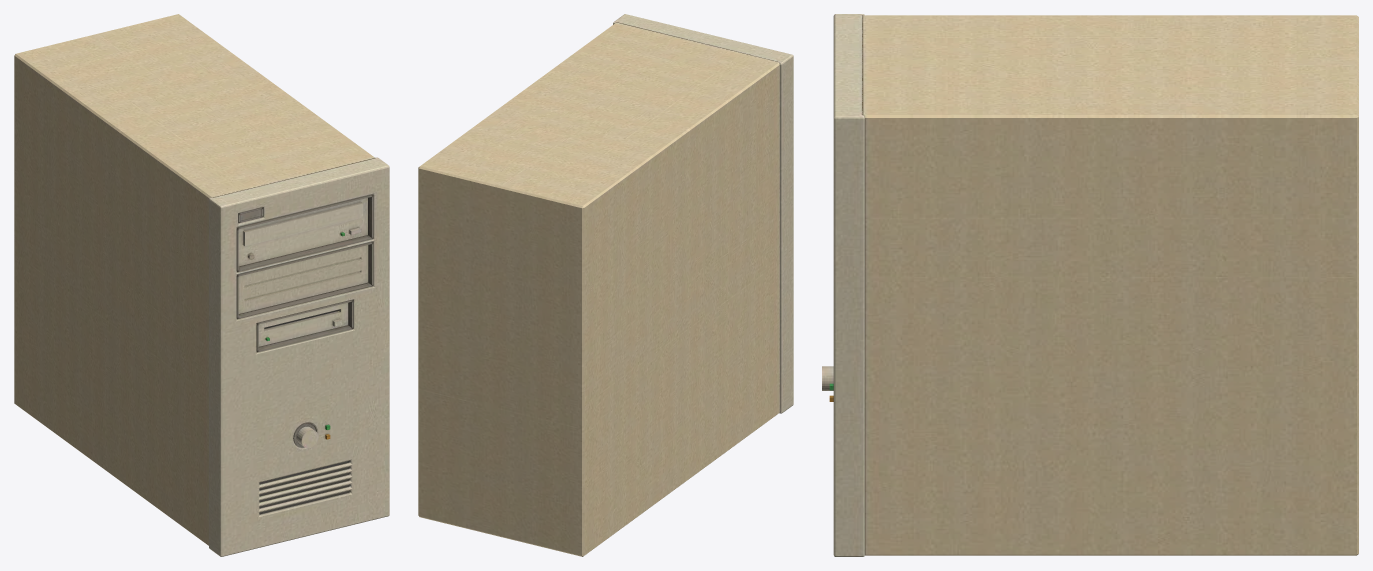
The model's file is tower-a.glb.
The picture shows the model from 3 angles, left to right: view 1: azimuth 30°, elevation 25°; view 2: azimuth 150°, elevation 25°; view 3: azimuth 270°, elevation 25°; orthographic projection. The views are drawn at different scales.
Visible parts, largest first — view 1: case-baked; view 2: case-baked; view 3: case-baked.
Part boxes in pixels (left/top/right/bottom): case-baked: left=14, top=14, right=389, bottom=556; case-baked: left=418, top=14, right=793, bottom=556; case-baked: left=822, top=14, right=1358, bottom=556.
Bounding box in the file's own units: 0.189 × 0.38 × 0.413.
1 material, 1 textured.
